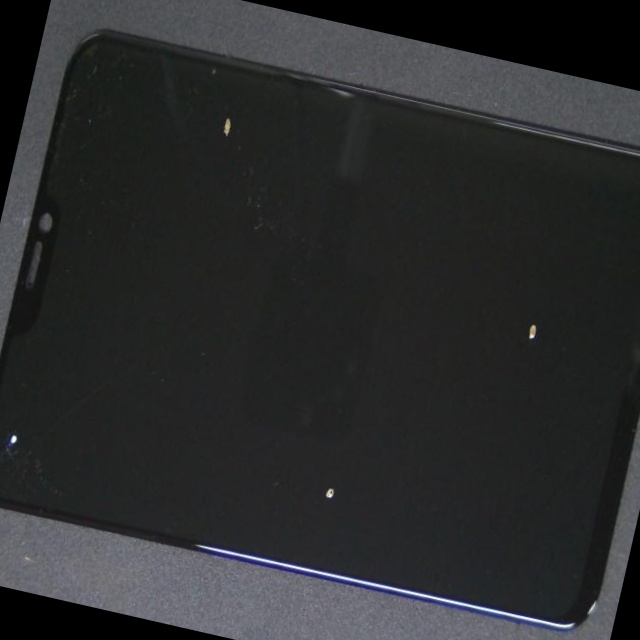stain: (134, 201, 583, 640), (253, 115, 640, 458), (83, 44, 337, 247), (0, 183, 92, 587)
